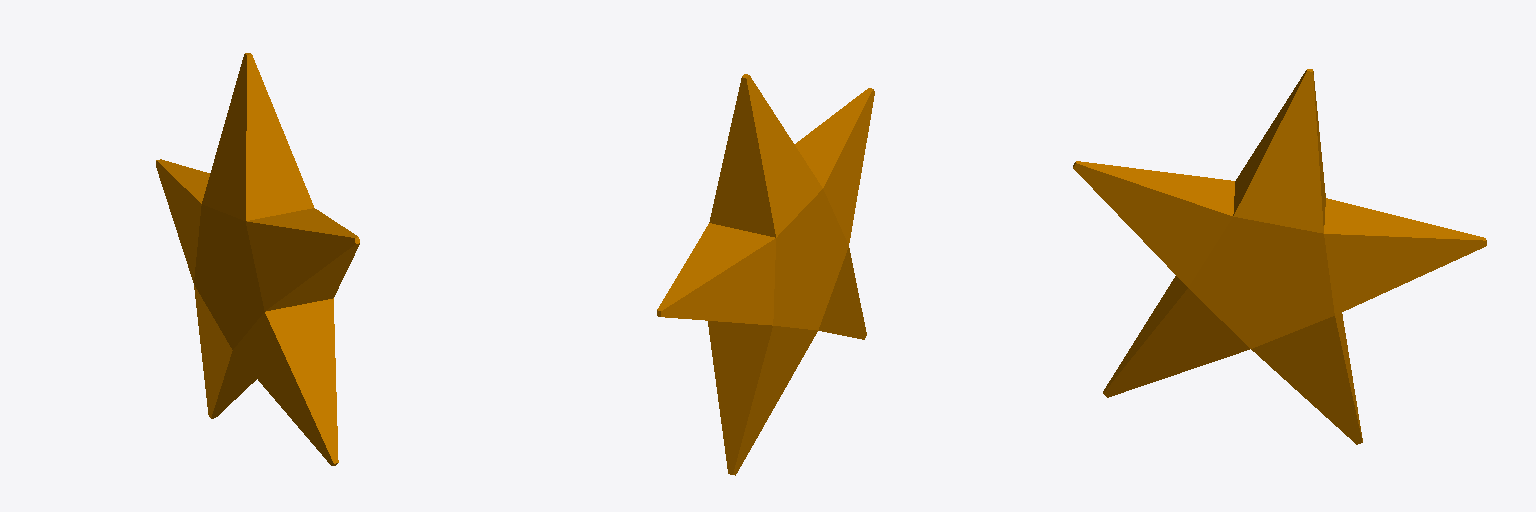
File: x-mas-tree_star.obj
3 renders of one model, left to right at view 1: azimuth 30°, elevation 25°; view 2: azimuth 150°, elevation 25°; view 3: azimuth 270°, elevation 25°, orthographic.
Visible parts, largest first — view 1: Cylinder.002; view 2: Cylinder.002; view 3: Cylinder.002.
Boxes of the visible parts, x1=… form: Cylinder.002: x1=156, y1=53, x2=359, y2=465; Cylinder.002: x1=657, y1=74, x2=874, y2=475; Cylinder.002: x1=1073, y1=69, x2=1486, y2=444.
Bounding box in the file's own units: 0.1194 × 0.5891 × 0.5819.